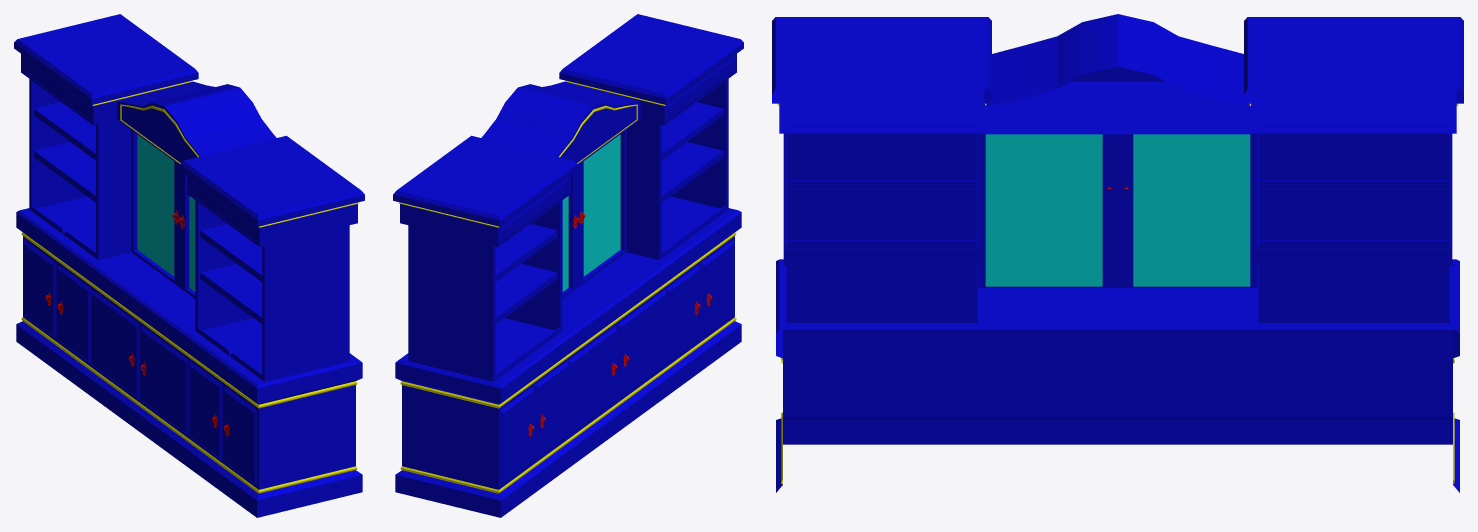
The model's file is SM_Cabinet_001.fbx.
3 views of the same model, side by side, from view 1: azimuth 30°, elevation 25°; view 2: azimuth 150°, elevation 25°; view 3: azimuth 270°, elevation 25° (orthographic). The views are drawn at different scales.
Visible parts, largest first — view 1: SM_Cabinet_001; view 2: SM_Cabinet_001; view 3: SM_Cabinet_001.
Part boxes in pixels (x1,y1,x2,y2): SM_Cabinet_001: (14, 14, 364, 517); SM_Cabinet_001: (393, 14, 743, 517); SM_Cabinet_001: (772, 14, 1463, 492).
Bounding box in the file's own units: 87.85 × 246 × 343.
